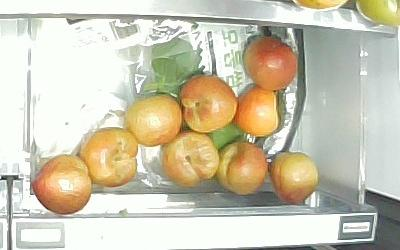prune: (30, 155, 93, 214), (179, 73, 236, 135), (82, 128, 139, 189), (163, 131, 218, 188), (243, 35, 298, 90), (127, 93, 181, 146), (216, 141, 268, 194), (270, 151, 319, 206), (236, 84, 280, 138)
